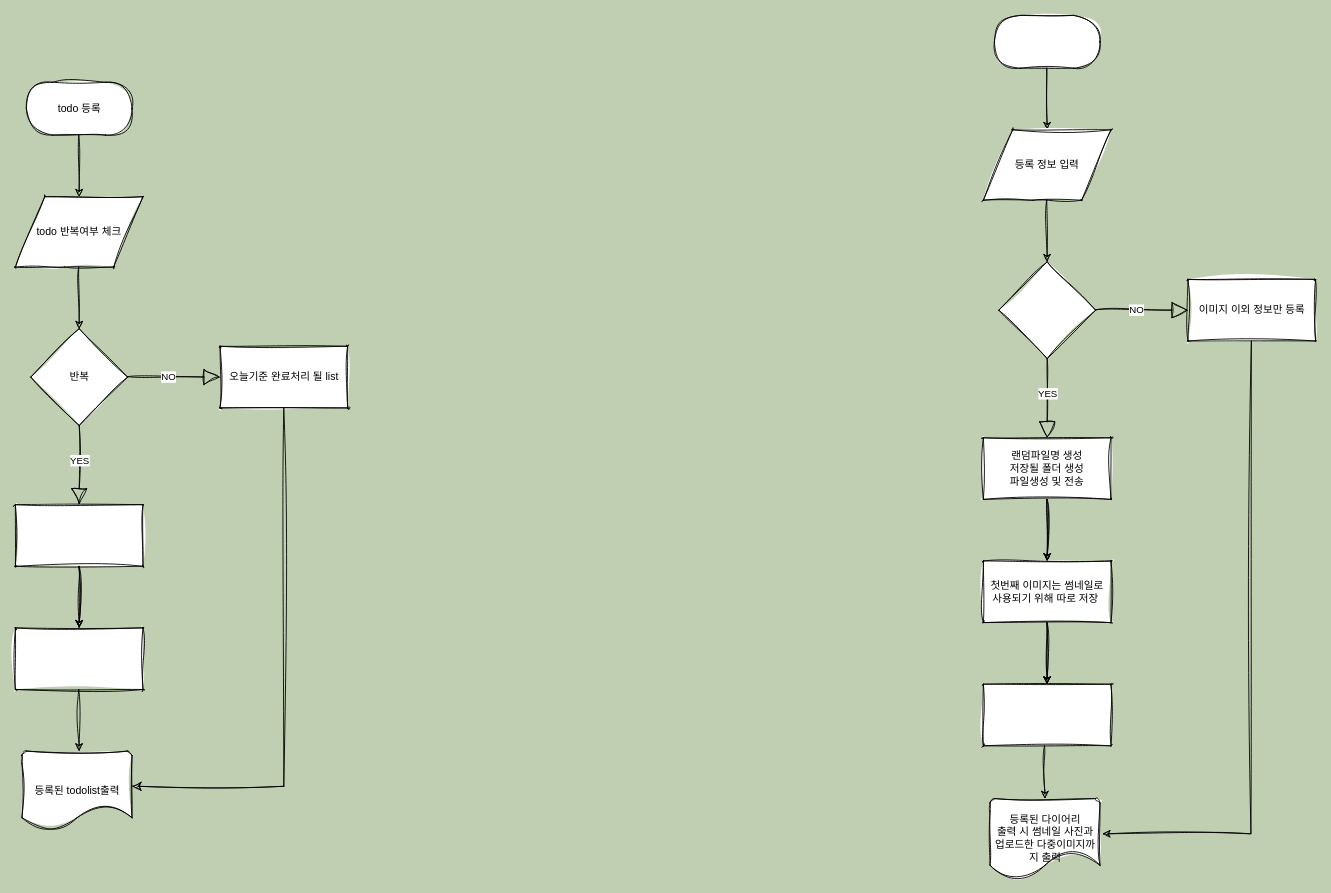
Some shapes in this 1331 by 893 pixel diagram are drawn without their labels. The shapes that lost their labels are listed below. From the top down, each one's box as (x1, y1, x2, y2) in pixels, then its label:
(994, 15, 1100, 68): 다이어리 등록
(998, 261, 1096, 359): 이미지가 있는가
(15, 504, 143, 566): 작성됐던 todo리스트 복사해서 등록
(15, 627, 143, 689): 당일 날짜 요일 체크 후 리스트 복사 후 등록
(983, 683, 1111, 746): 다중이미지도 따로 저장
